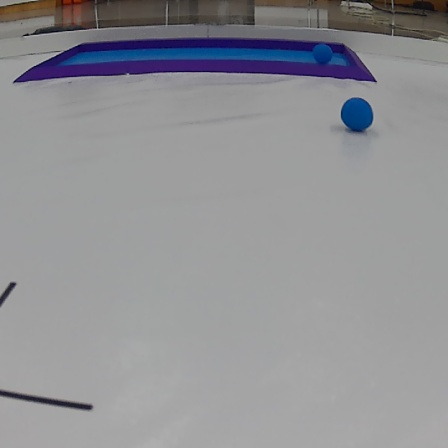blue: (340, 98, 377, 133), (310, 41, 334, 64)
blue_aim: (11, 38, 381, 86)
